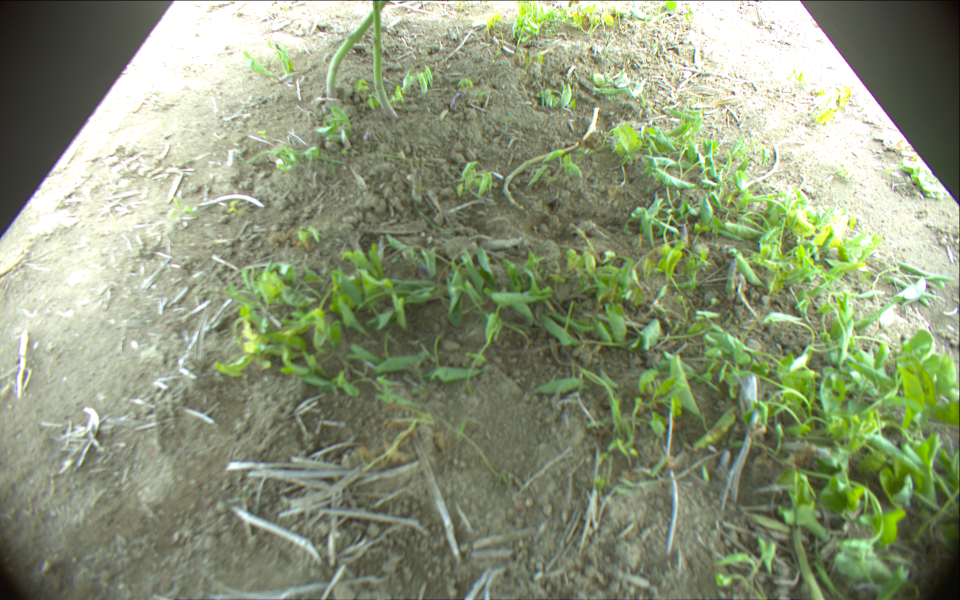aspa: (326, 1, 389, 101), (502, 142, 580, 209), (372, 1, 400, 119), (792, 526, 823, 600), (725, 258, 738, 297), (681, 224, 691, 246)
